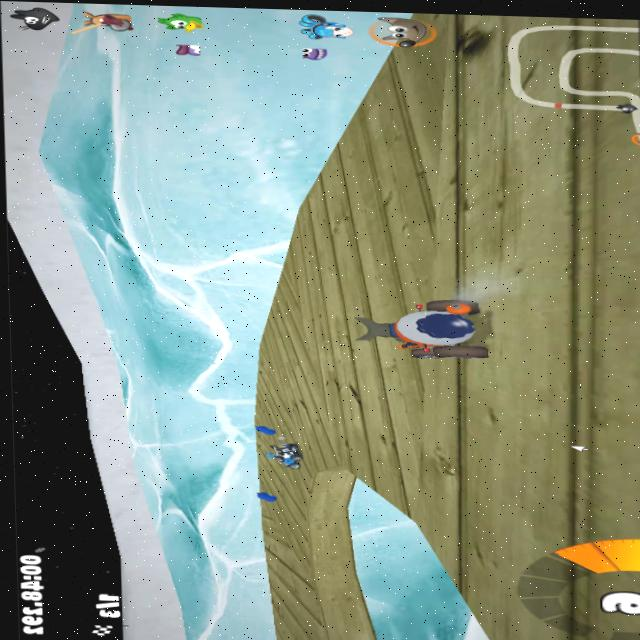enemy_kart: (264, 444, 311, 467)
nitro: (251, 487, 280, 506), (251, 423, 272, 434)
player_kart: (354, 295, 509, 365)
track: (338, 144, 640, 300), (429, 14, 640, 152), (260, 355, 640, 425), (316, 415, 640, 485), (456, 555, 640, 620), (396, 478, 640, 521), (259, 549, 361, 640), (506, 299, 640, 366), (413, 521, 640, 555), (300, 200, 348, 358), (371, 82, 437, 148), (277, 471, 324, 549), (509, 615, 640, 640), (270, 290, 310, 356), (258, 514, 287, 555), (280, 416, 311, 439)
